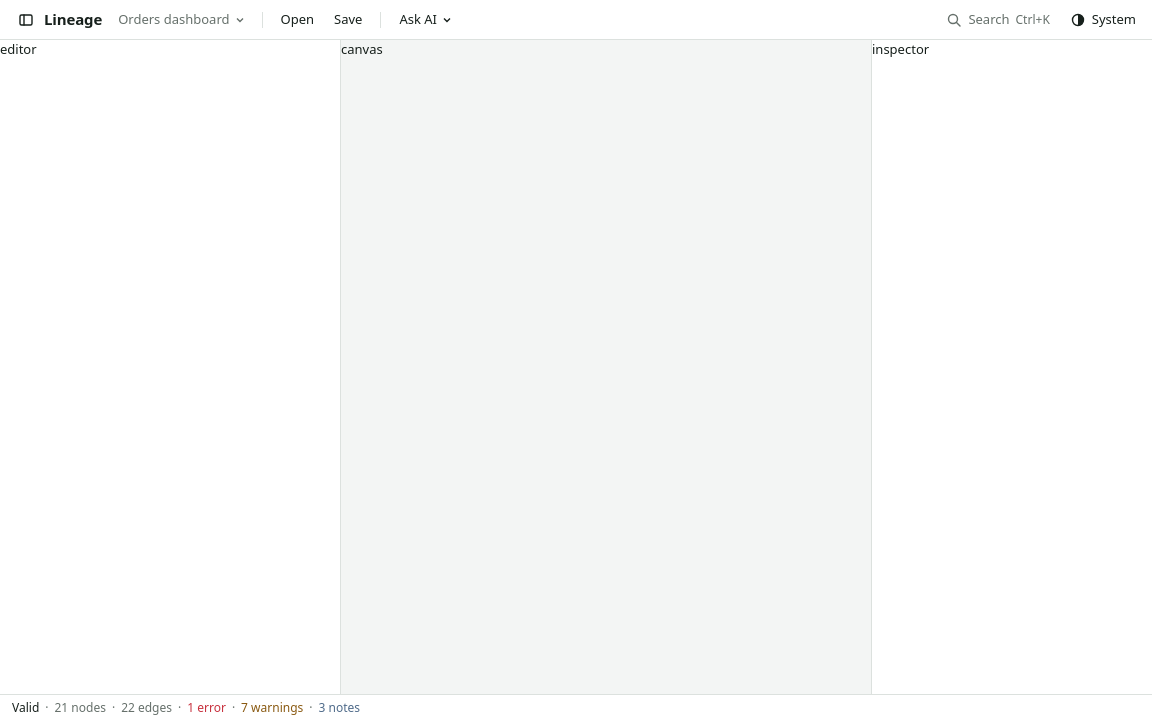
Add node › opens with N and adds a component on Enter
The image size is (1152, 720).
Type keys "n"
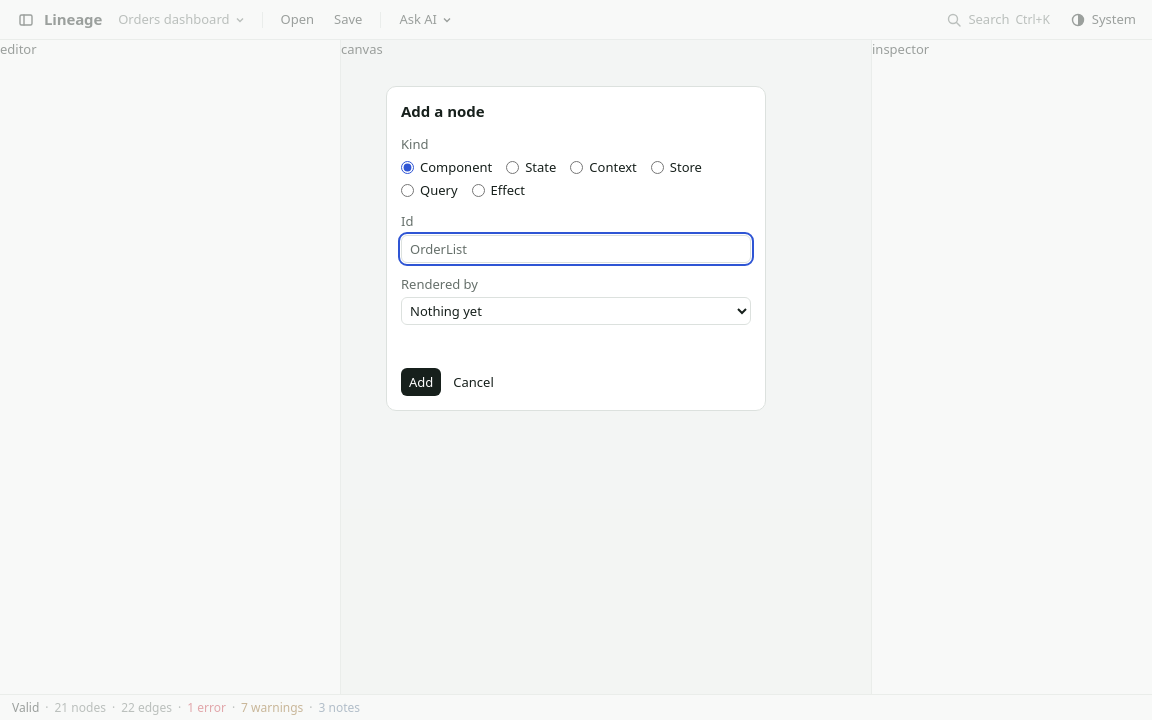
Type "Toast" into the field labelled "Id" at (576, 248), box [401,234,751,262]
Then press Enter
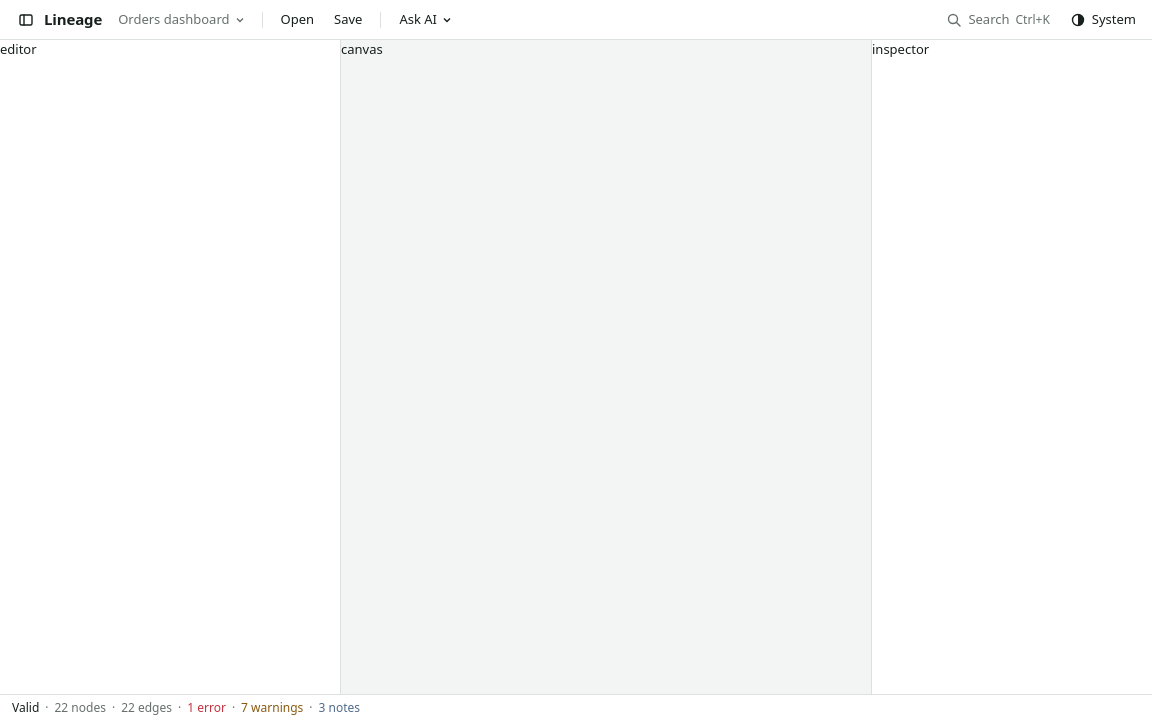
expect the heading "Add a node" is gone: met
